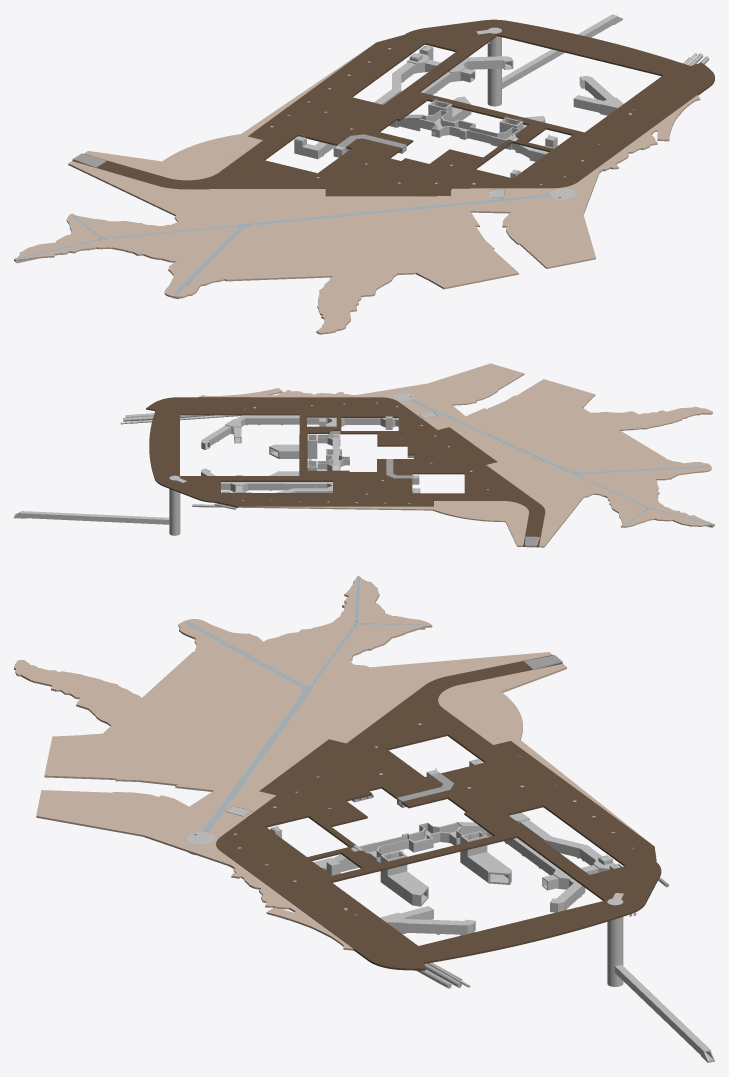
3 views of the same model, one above another, from view 1: azimuth 30°, elevation 25°; view 2: azimuth 150°, elevation 25°; view 3: azimuth 270°, elevation 25° (orthographic). The views are drawn at different scales.
Visible parts, largest first — view 1: 0whh$s8l1Dmu3ohWHslOtC, 06q1Fav7bAo8La1N5Ojbeo, 0whh$s8l1Dmu3ohWHslQPZ, 0j4OlNQDvFKPdD4lYWqas7, 1Zf_dvPF95a9$GlQjFrhDu, 307$JybgnAH94aTfKBtH$n, 3DMPkWJVz4nBXaZXn0bxGz; view 2: 0whh$s8l1Dmu3ohWHslOtC, 06q1Fav7bAo8La1N5Ojbeo, 0whh$s8l1Dmu3ohWHslQPZ, 2QHSYp0qrDkOGQRIlB4SgH, 0j4OlNQDvFKPdD4lYWqas7, 307$JybgnAH94aTfKBtH$J, 307$JybgnAH94aTfKBtH$n, 3DMPkWJVz4nBXaZXn0bxGz; view 3: 0whh$s8l1Dmu3ohWHslOtC, 06q1Fav7bAo8La1N5Ojbeo, 0whh$s8l1Dmu3ohWHslQPZ, 0j4OlNQDvFKPdD4lYWqas7, 1Zf_dvPF95a9$GlQjFrhDv, 307$JybgnAH94aTfKBtH$n.
Boxes of the visible parts, bbox=[...] form: 0whh$s8l1Dmu3ohWHslOtC: bbox=[14, 95, 700, 334]; 06q1Fav7bAo8La1N5Ojbeo: bbox=[72, 19, 714, 196]; 0whh$s8l1Dmu3ohWHslQPZ: bbox=[84, 44, 373, 180]; 0j4OlNQDvFKPdD4lYWqas7: bbox=[253, 194, 551, 225]; 1Zf_dvPF95a9$GlQjFrhDu: bbox=[487, 36, 500, 103]; 307$JybgnAH94aTfKBtH$n: bbox=[502, 14, 617, 83]; 3DMPkWJVz4nBXaZXn0bxGz: bbox=[172, 228, 243, 299]; 0whh$s8l1Dmu3ohWHslOtC: bbox=[198, 363, 714, 547]; 06q1Fav7bAo8La1N5Ojbeo: bbox=[146, 397, 545, 547]; 0whh$s8l1Dmu3ohWHslQPZ: bbox=[238, 501, 528, 546]; 2QHSYp0qrDkOGQRIlB4SgH: bbox=[131, 402, 488, 509]; 0j4OlNQDvFKPdD4lYWqas7: bbox=[409, 399, 570, 472]; 307$JybgnAH94aTfKBtH$J: bbox=[14, 514, 169, 523]; 307$JybgnAH94aTfKBtH$n: bbox=[20, 511, 169, 520]; 3DMPkWJVz4nBXaZXn0bxGz: bbox=[580, 465, 707, 474]; 0whh$s8l1Dmu3ohWHslOtC: bbox=[14, 576, 552, 950]; 06q1Fav7bAo8La1N5Ojbeo: bbox=[216, 655, 661, 970]; 0whh$s8l1Dmu3ohWHslQPZ: bbox=[438, 664, 650, 843]; 0j4OlNQDvFKPdD4lYWqas7: bbox=[201, 693, 308, 832]; 1Zf_dvPF95a9$GlQjFrhDv: bbox=[608, 917, 623, 983]; 307$JybgnAH94aTfKBtH$n: bbox=[614, 964, 711, 1052].
Bounding box in the file's own units: 295 × 28.5 × 209.
